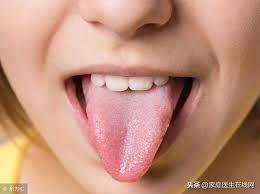baitaishe: (85, 92, 177, 183)
